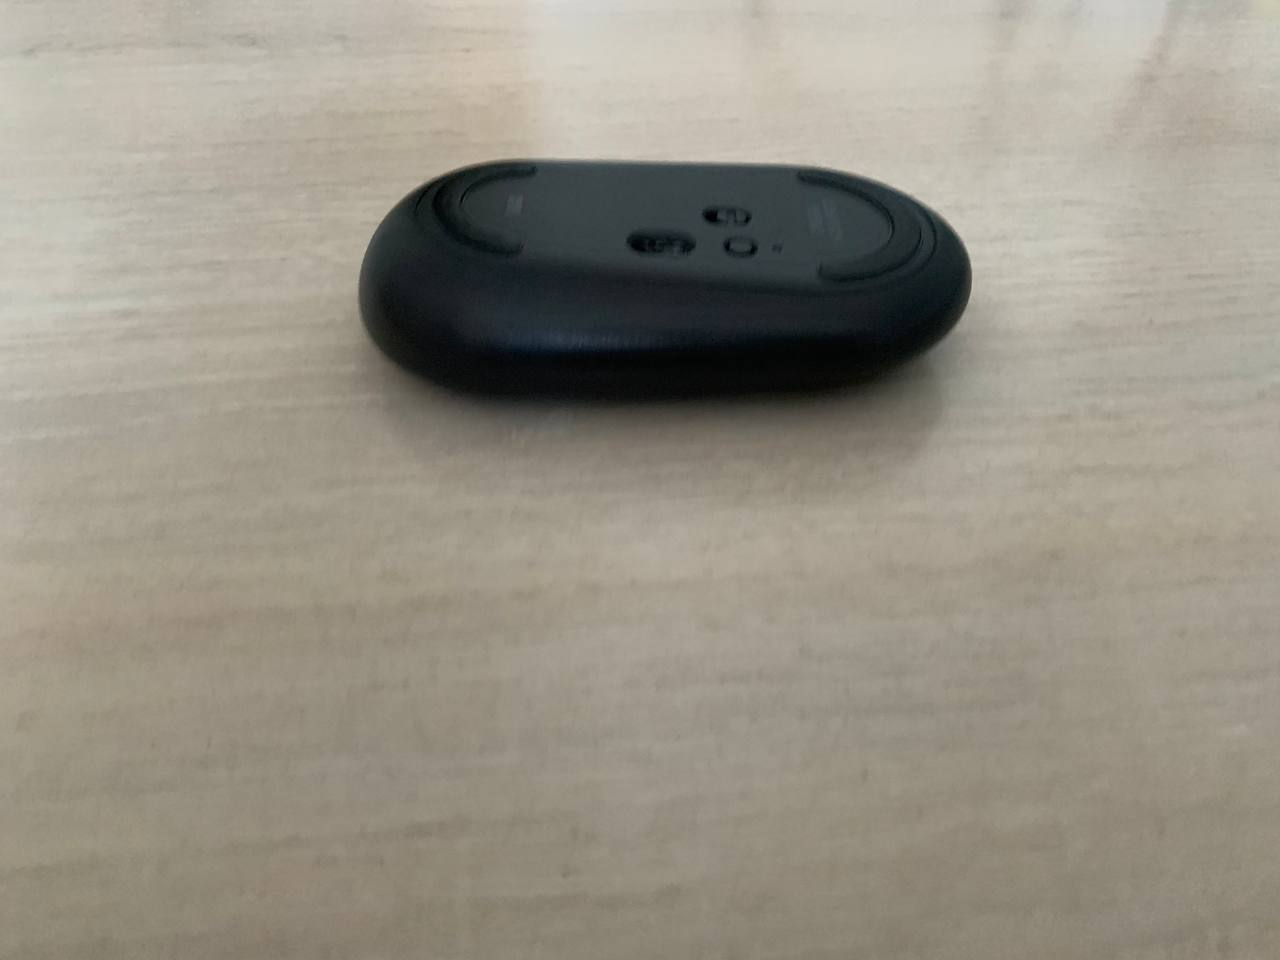mouse: (359, 160, 972, 396)
